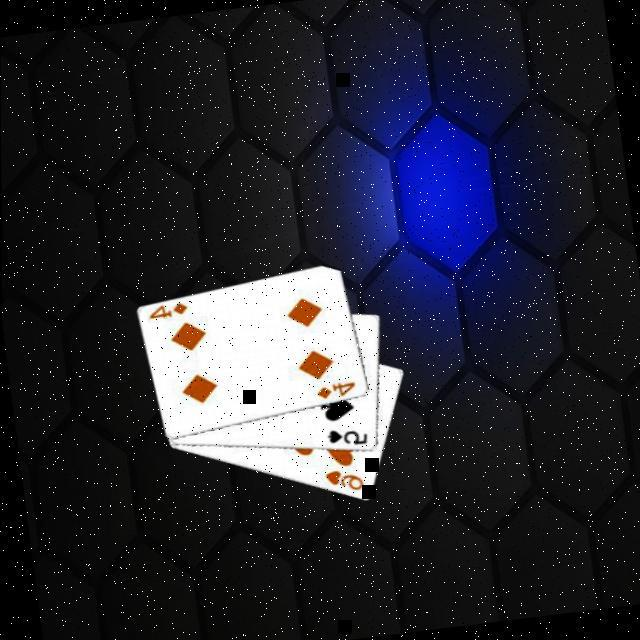4D: (314, 380, 360, 404), (146, 300, 192, 324)
5S: (324, 426, 371, 452)
9H: (321, 465, 368, 498)
